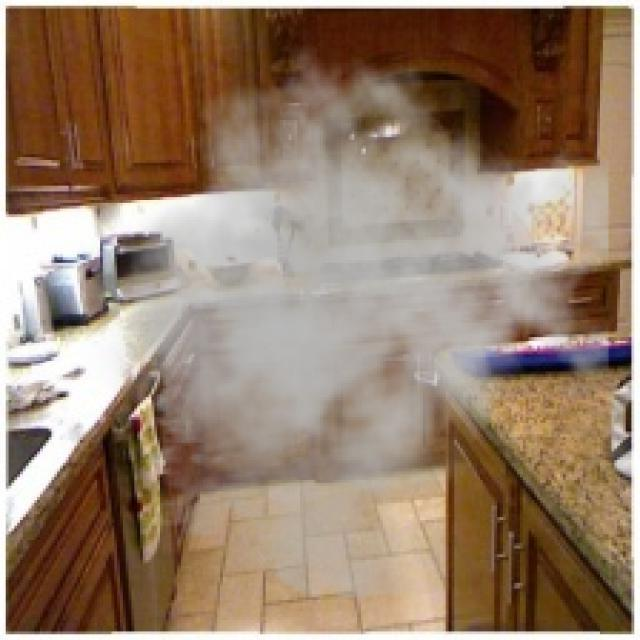Smoke: (77, 43, 609, 600)
